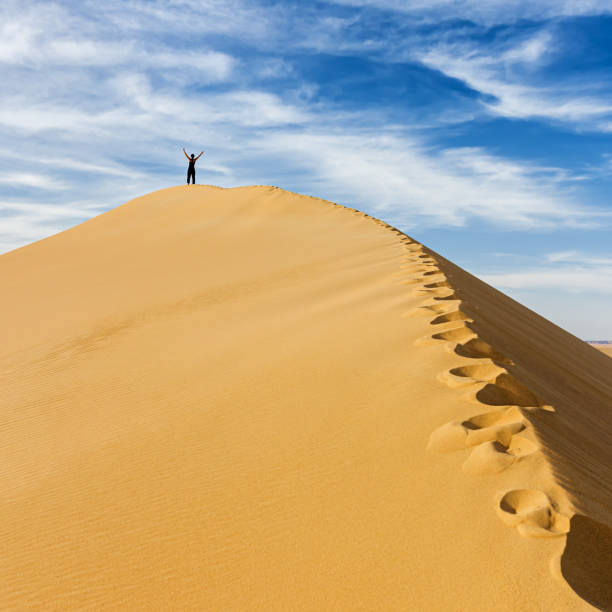human_footprint: (404, 245, 548, 474), (428, 359, 538, 473), (428, 406, 525, 451), (497, 489, 569, 536), (462, 433, 539, 474), (438, 358, 505, 387)
